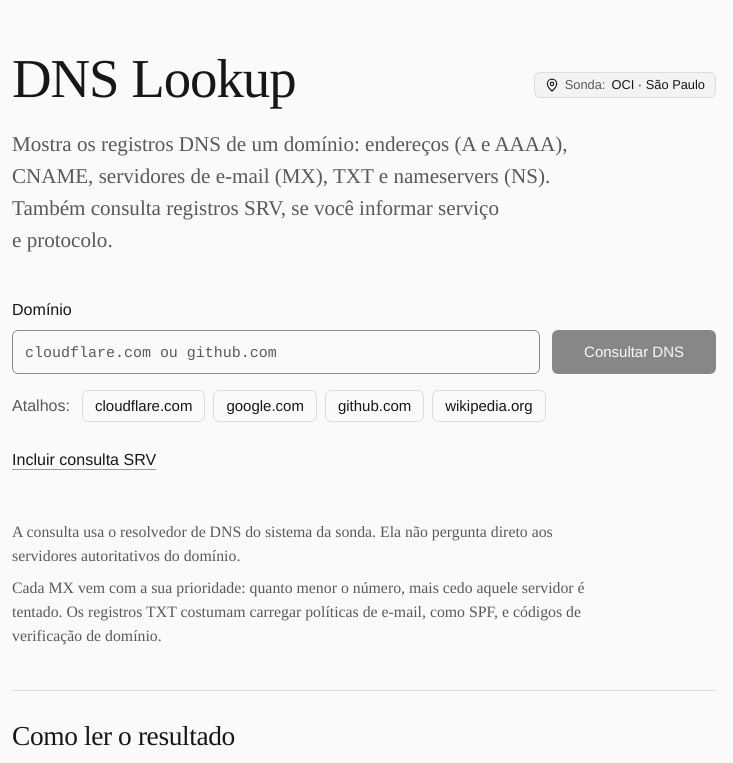
DnsLookup (acessibilidade) › campo de domínio tem rótulo e o aviso de carregamento fica numa região viva sempre montada
In the field: [276, 352] box [12,330,540,374], type "example.com"
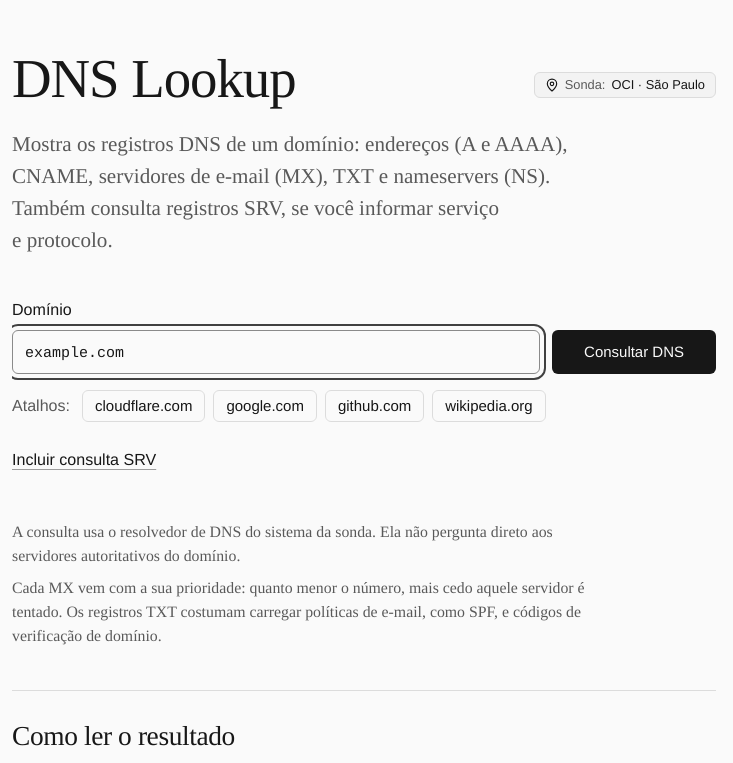
Click the button "Consultar DNS": [634, 352] box [552,330,716,374]
(page scrolled)
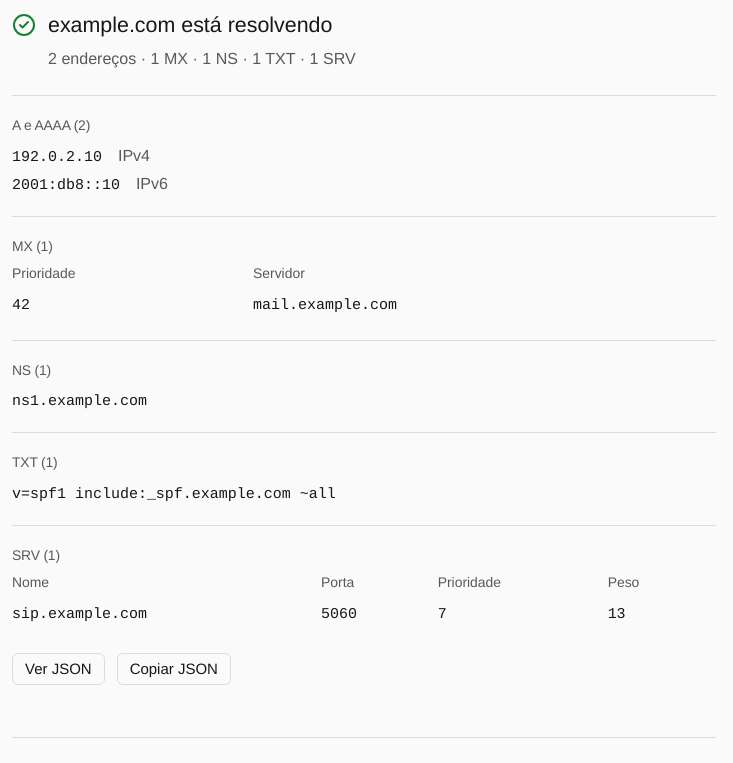
Expected: the message shows "example.com", [48,13,332,37]
Expected: the list item "ns1.example.com" is shown, [12,390,147,409]
